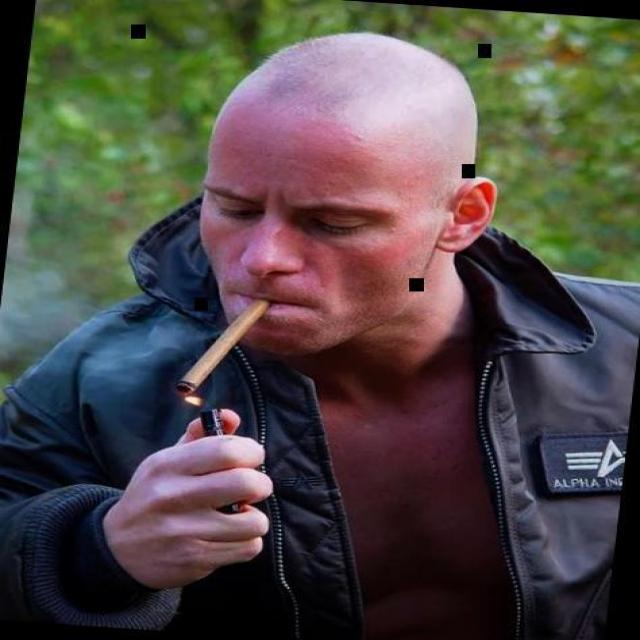smoke: (168, 282, 278, 409)
